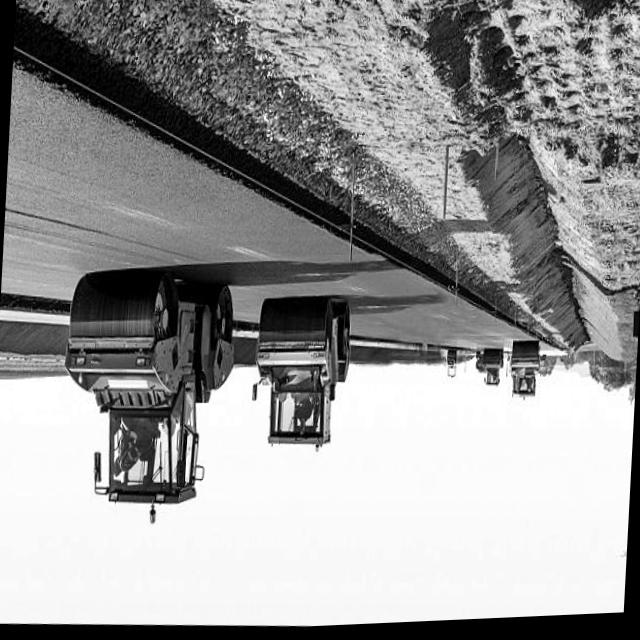cleat: (0, 73, 640, 513)
